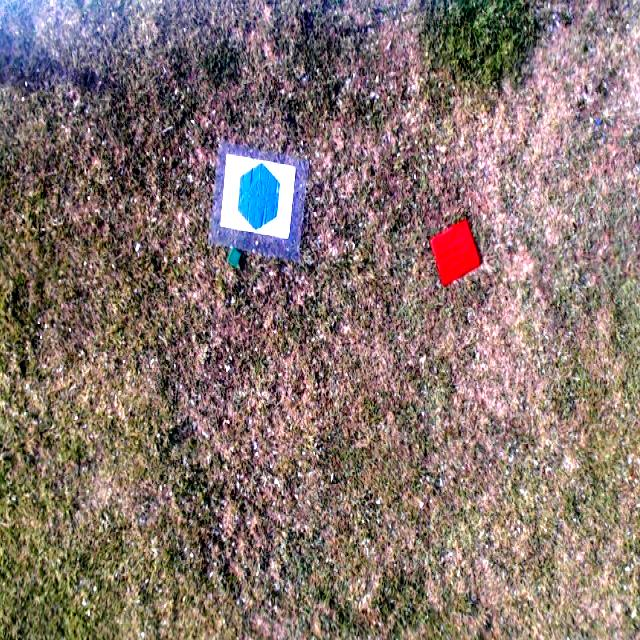blue_hexagon: (237, 160, 279, 232)
red_square: (431, 218, 480, 287)
